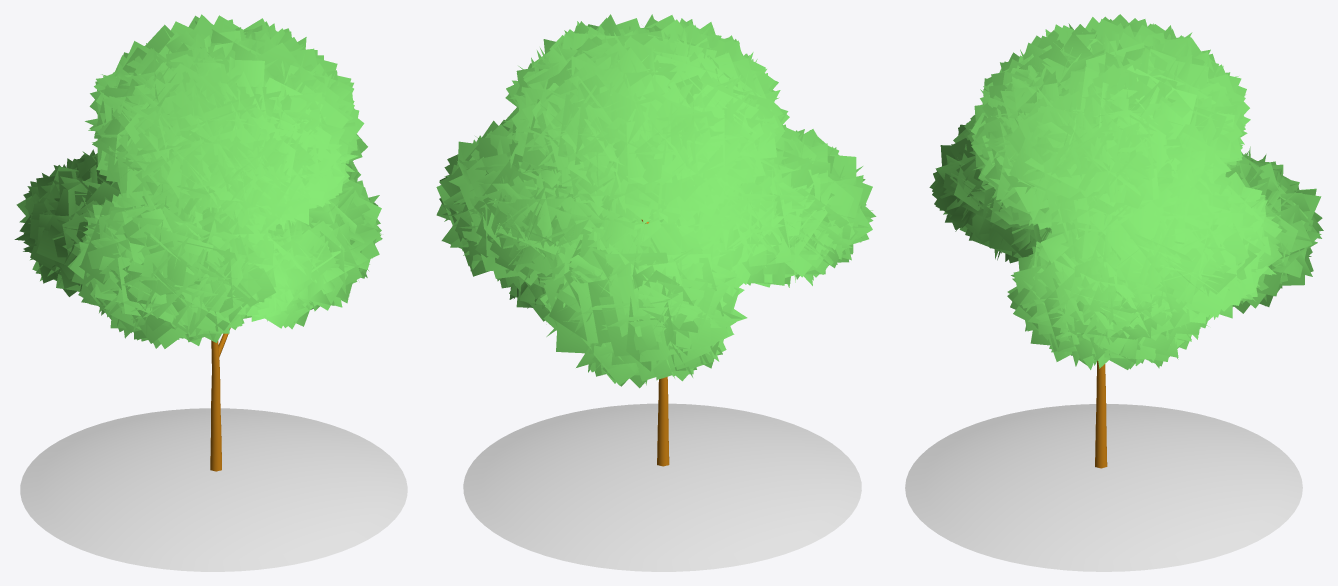
File: tree.glb
3 views of the same model, side by side, from view 1: azimuth 30°, elevation 25°; view 2: azimuth 150°, elevation 25°; view 3: azimuth 270°, elevation 25° (orthographic). The views are drawn at different scales.
Visible parts, largest first — view 1: leaves, base, trunk; view 2: leaves, base, trunk; view 3: leaves, base, trunk.
Part boxes in pixels (bbox=[...]): leaves: bbox=[14, 14, 382, 348]; base: bbox=[20, 408, 407, 571]; trunk: bbox=[210, 328, 230, 471]; leaves: bbox=[436, 14, 876, 388]; base: bbox=[463, 403, 861, 571]; trunk: bbox=[641, 219, 669, 466]; leaves: bbox=[929, 14, 1323, 369]; base: bbox=[905, 404, 1302, 571]; trunk: bbox=[1095, 360, 1107, 468].
Size of the model in its own units: 5.78 by 7.22 by 5.95.
Materials: 3 (1 with a texture image).
